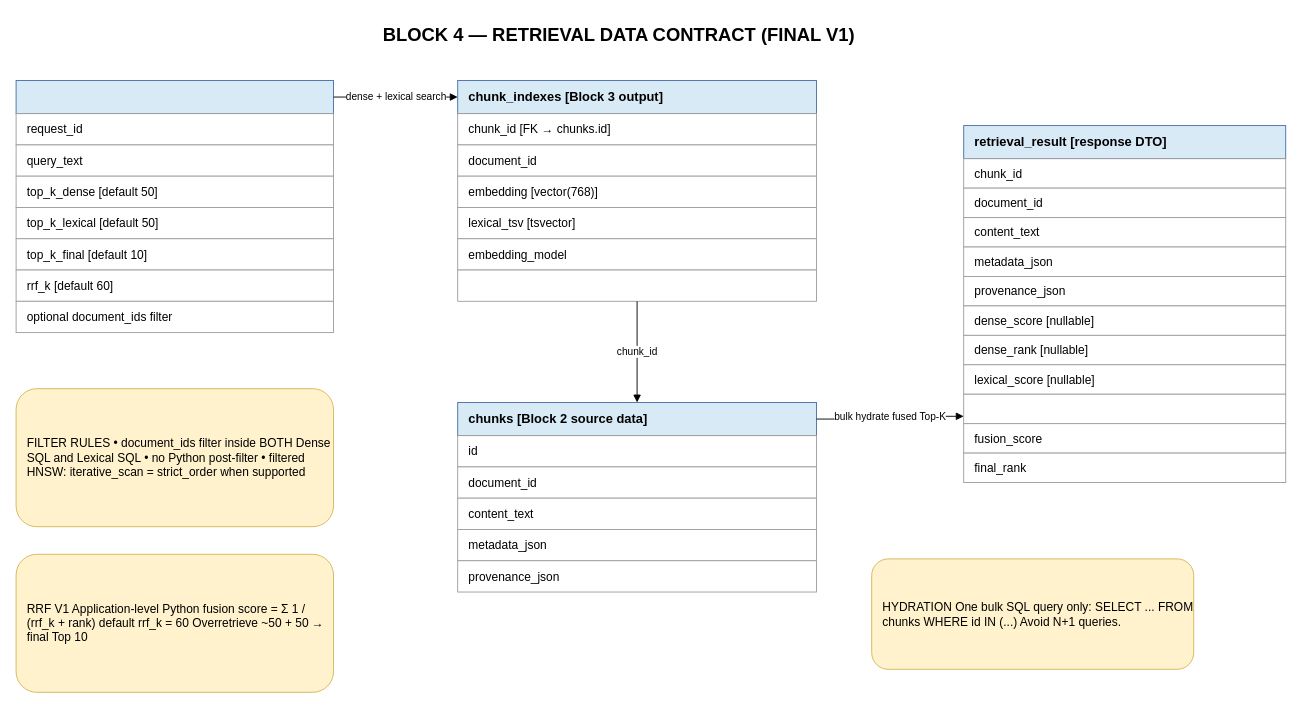
The diagram is 1302 pixels wide and 708 high, and some of its shapes have lost their labels. Each missing label, with the centre of its shape:
"index_version" goes at (x=636, y=285).
"lexical_rank [nullable]" goes at (x=1124, y=408).
"retrieval_request [API DTO]" goes at (x=174, y=97).
